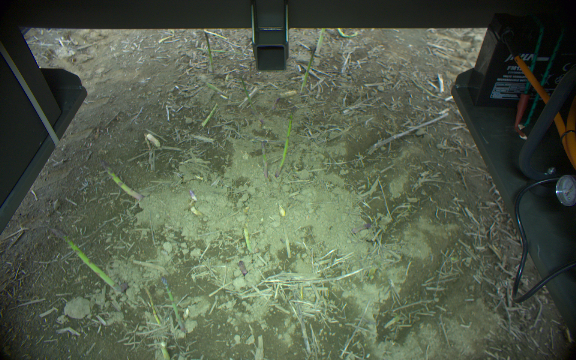aspa: (44, 225, 124, 295), (102, 160, 145, 203), (160, 276, 187, 331), (273, 113, 295, 177), (297, 50, 315, 95), (239, 73, 257, 117), (203, 33, 218, 78), (257, 138, 269, 178), (313, 28, 328, 56), (201, 103, 217, 128), (334, 28, 361, 39), (157, 341, 171, 360)
